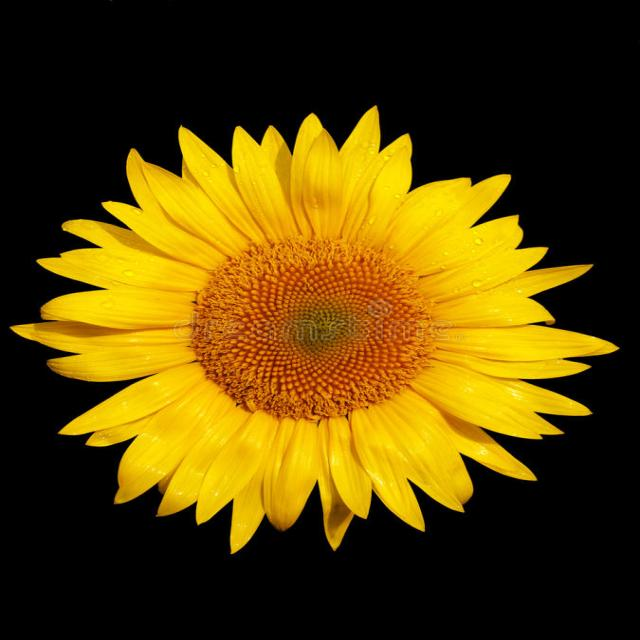sunflower: (13, 114, 608, 550)
